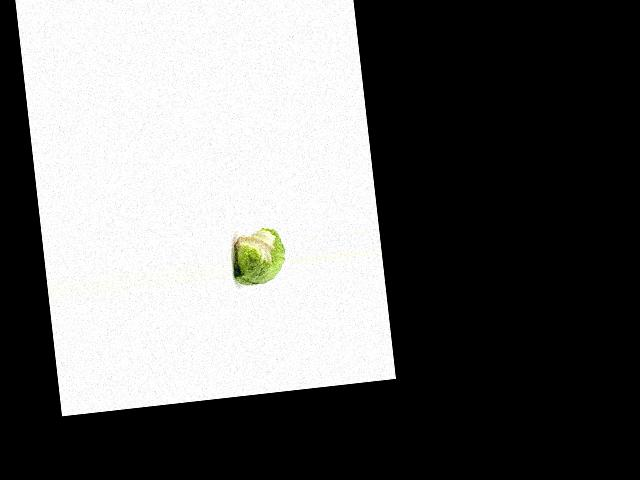lettuce: (226, 224, 288, 288)
